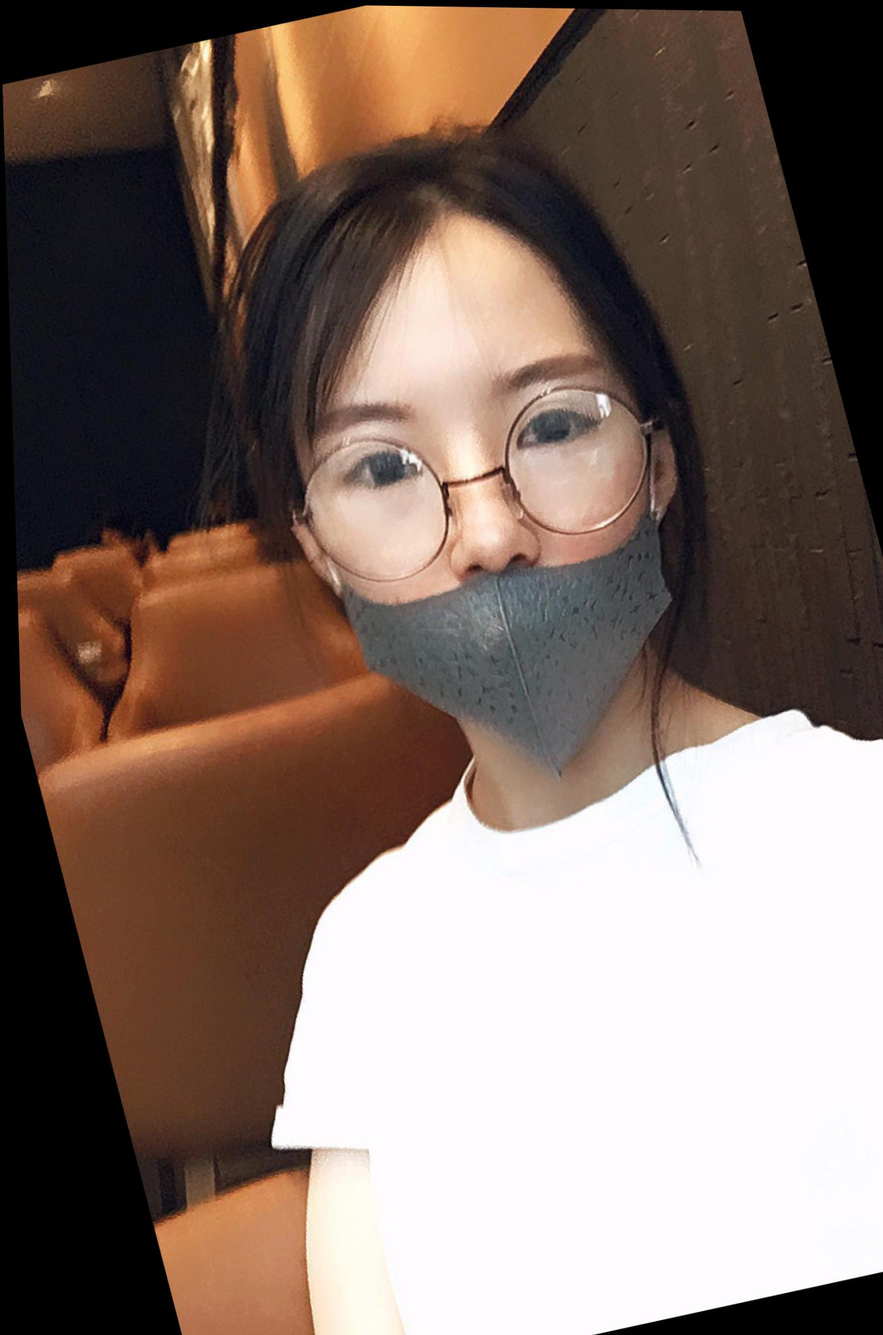WRONG: (259, 291, 711, 780)
